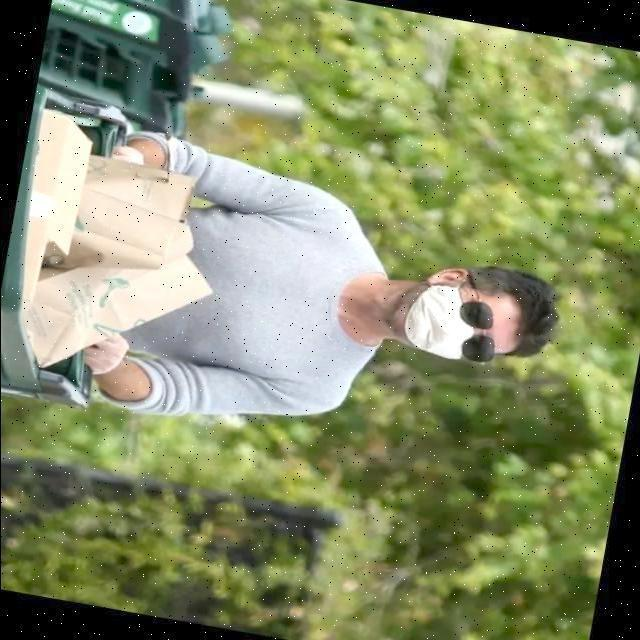apron: (72, 326, 134, 374), (106, 138, 155, 170)
mask: (414, 282, 482, 356)
no_gloves: (494, 277, 550, 349)
